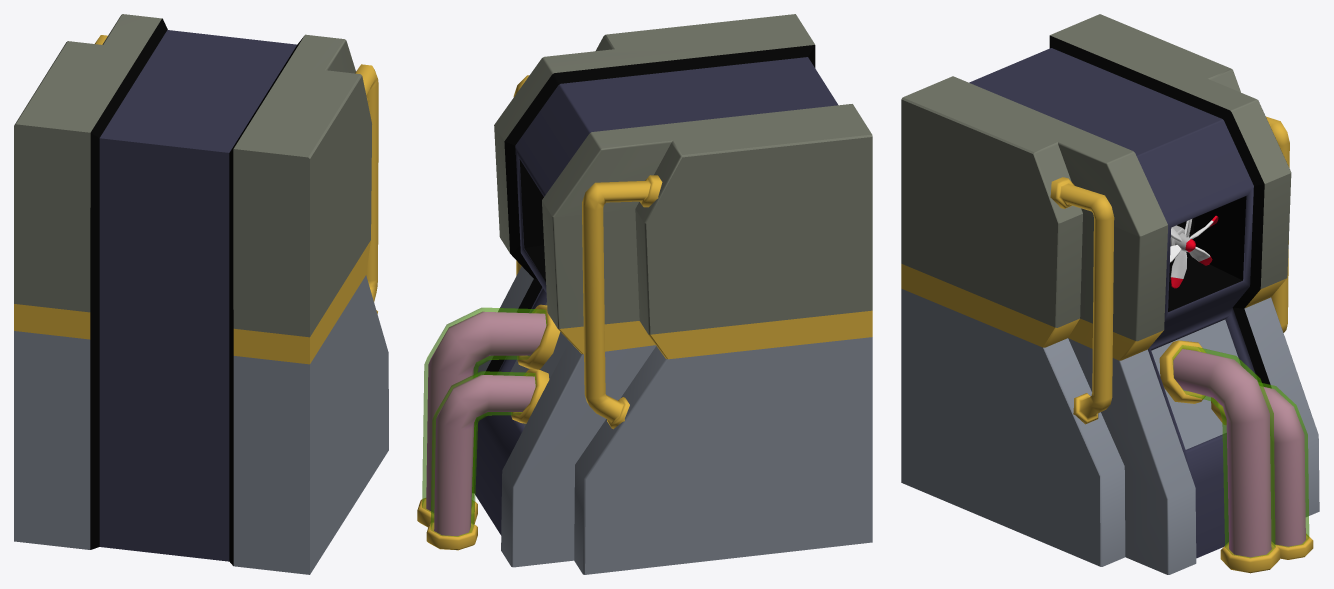
Rendered from Wall_inmiddle1_R.fbx.
3 renders of one model, left to right at view 1: azimuth 30°, elevation 25°; view 2: azimuth 150°, elevation 25°; view 3: azimuth 270°, elevation 25°, orthographic. The views are drawn at different scales.
Visible parts, largest first — view 1: Wall_inmiddle1_R; view 2: Wall_inmiddle1_R; view 3: Wall_inmiddle1_R.
Part boxes in pixels (<box>): Wall_inmiddle1_R: <box>14,14,388,574</box>; Wall_inmiddle1_R: <box>417,14,872,574</box>; Wall_inmiddle1_R: <box>901,14,1319,574</box>.
Size of the model in its own units: 70.85 by 72.84 by 70.85.
